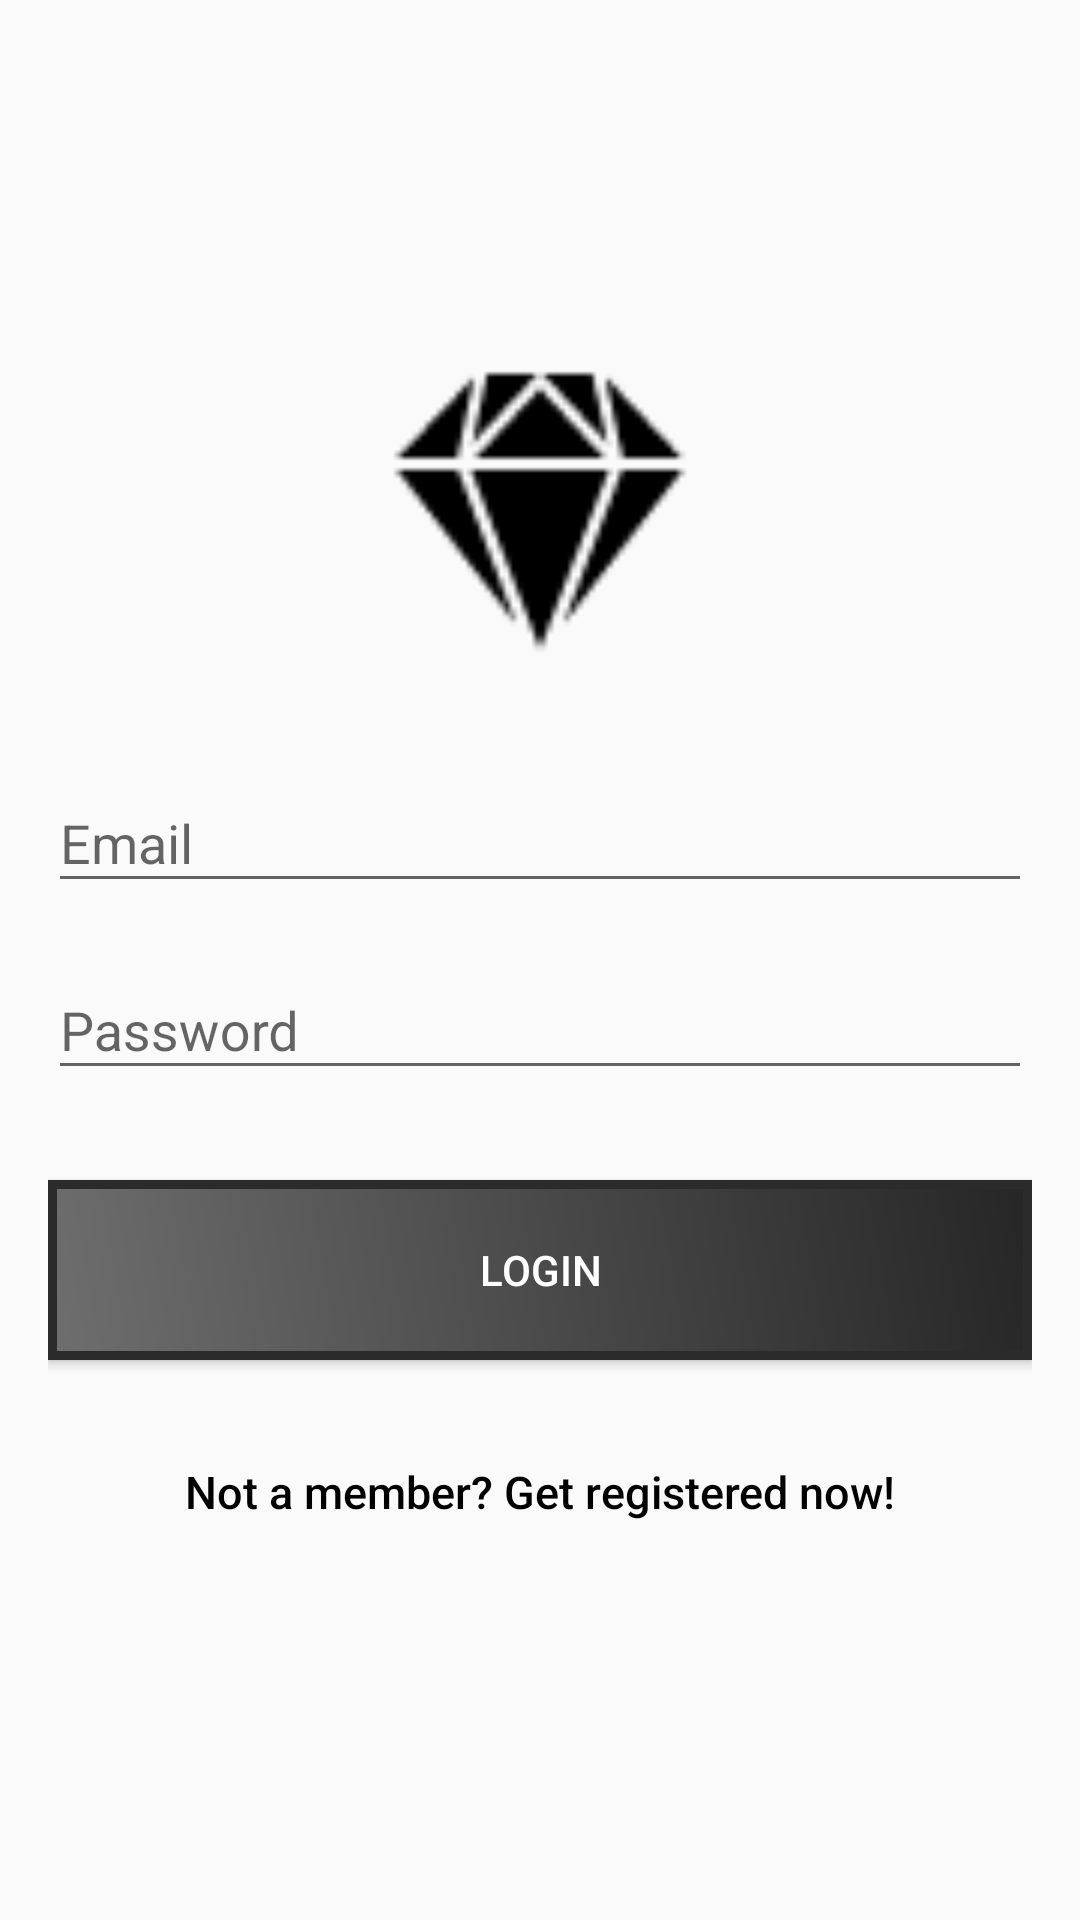

Locate icon controls on the screen. Image size 1080px×1920px, boxes as detection(x1, y1, x2, y2).
diamond: detection(394, 372, 685, 648)
